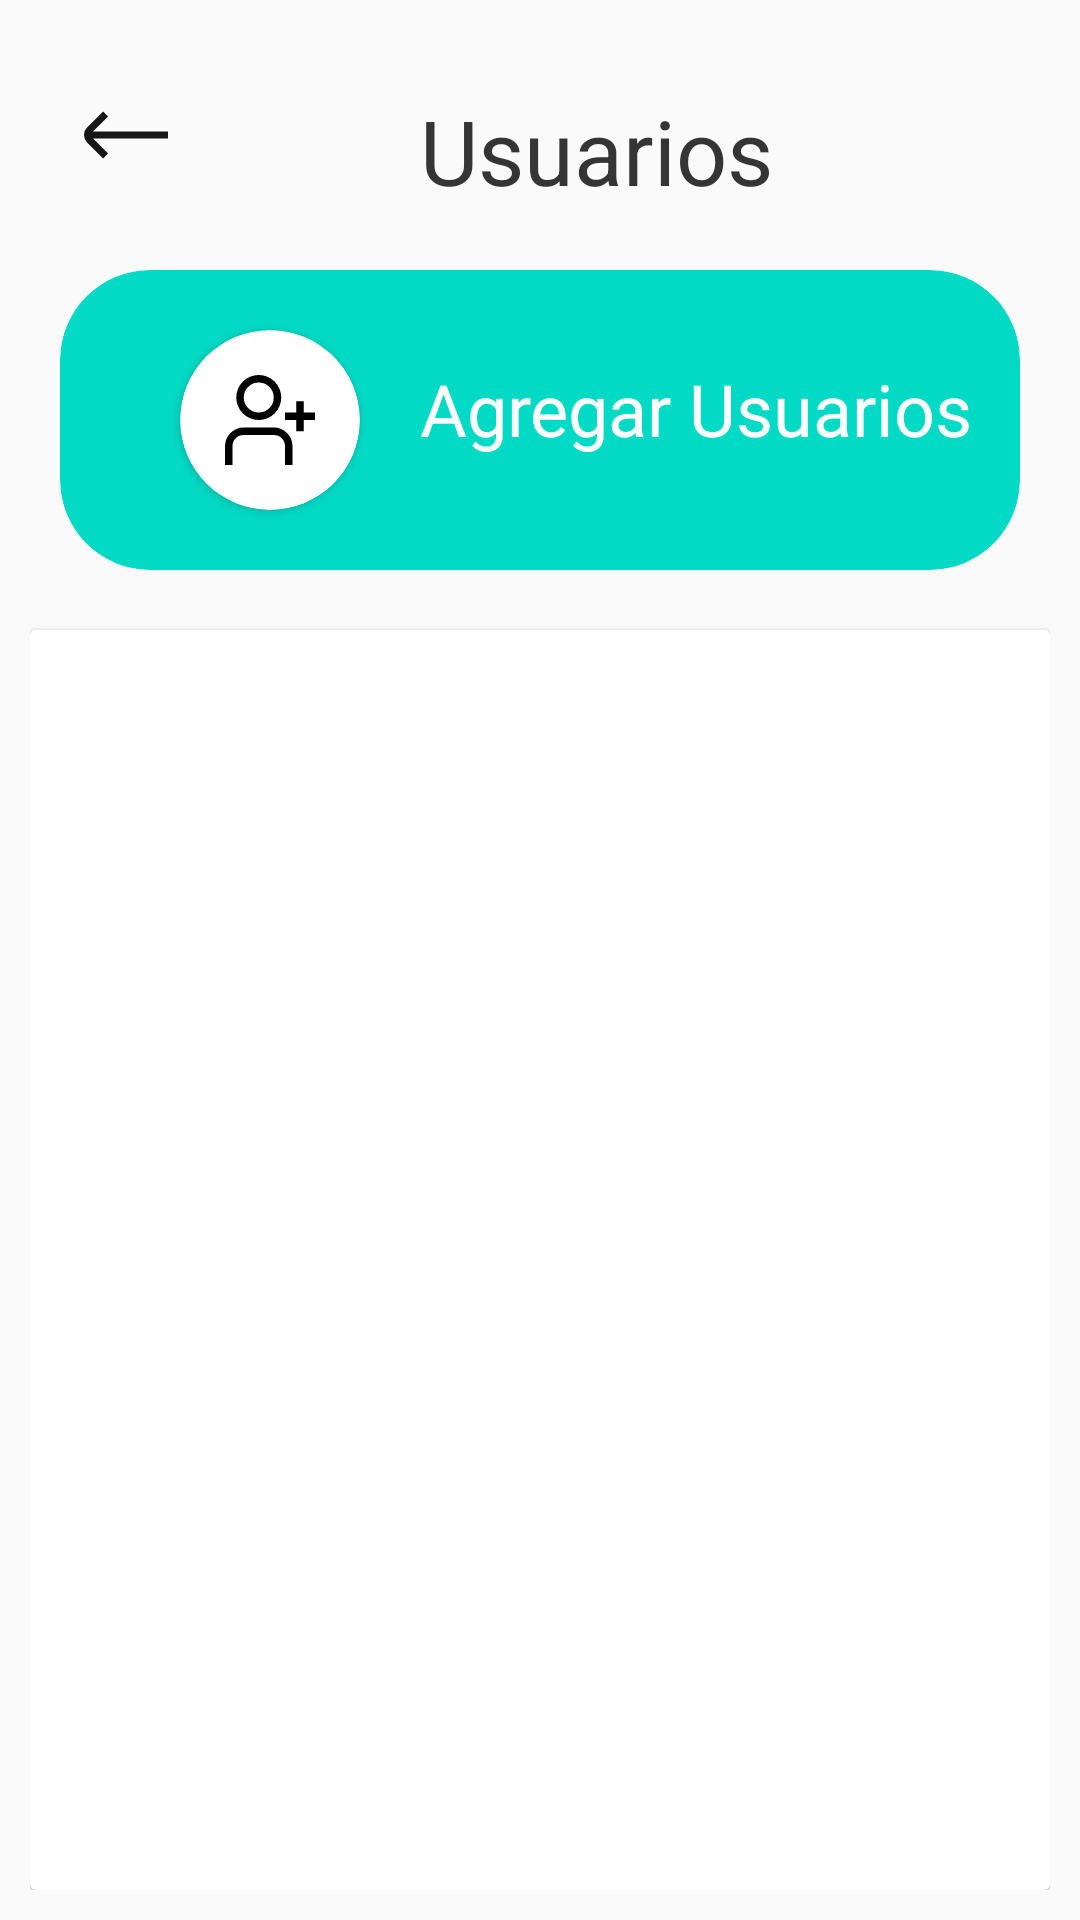

Icons on this 1080×1920 Android screen, each with the point to tap as (x,y):
arrow left: (126,135)
user add: (270,420)
